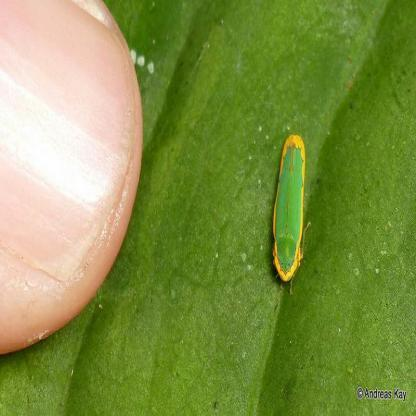green-leafhopper: (265, 131, 316, 287)
